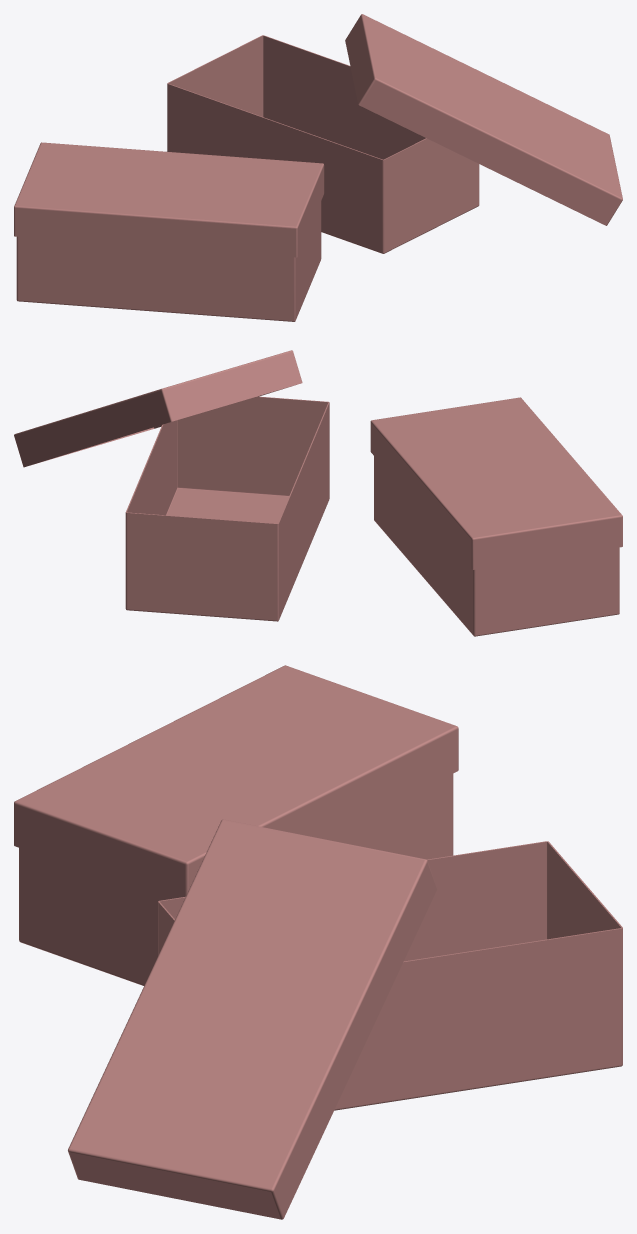
File: uploads_files_977327_shoe+box+ECCO.FBX
3 views of the same model, one above another, from view 1: azimuth 30°, elevation 25°; view 2: azimuth 150°, elevation 25°; view 3: azimuth 270°, elevation 25° (orthographic). The views are drawn at different scales.
Visible parts, largest first — view 1: Box003, Box002; view 2: Box003, Box002; view 3: Box003, Box002.
Part boxes in pixels (left/top/right/bottom): Box003: left=167, top=14, right=622, bottom=253; Box002: left=14, top=142, right=324, bottom=321; Box003: left=14, top=350, right=329, bottom=621; Box002: left=370, top=397, right=622, bottom=636; Box003: left=68, top=819, right=622, bottom=1219; Box002: left=14, top=665, right=458, bottom=985.
Size of the model in its own units: 819 by 208 by 498.
